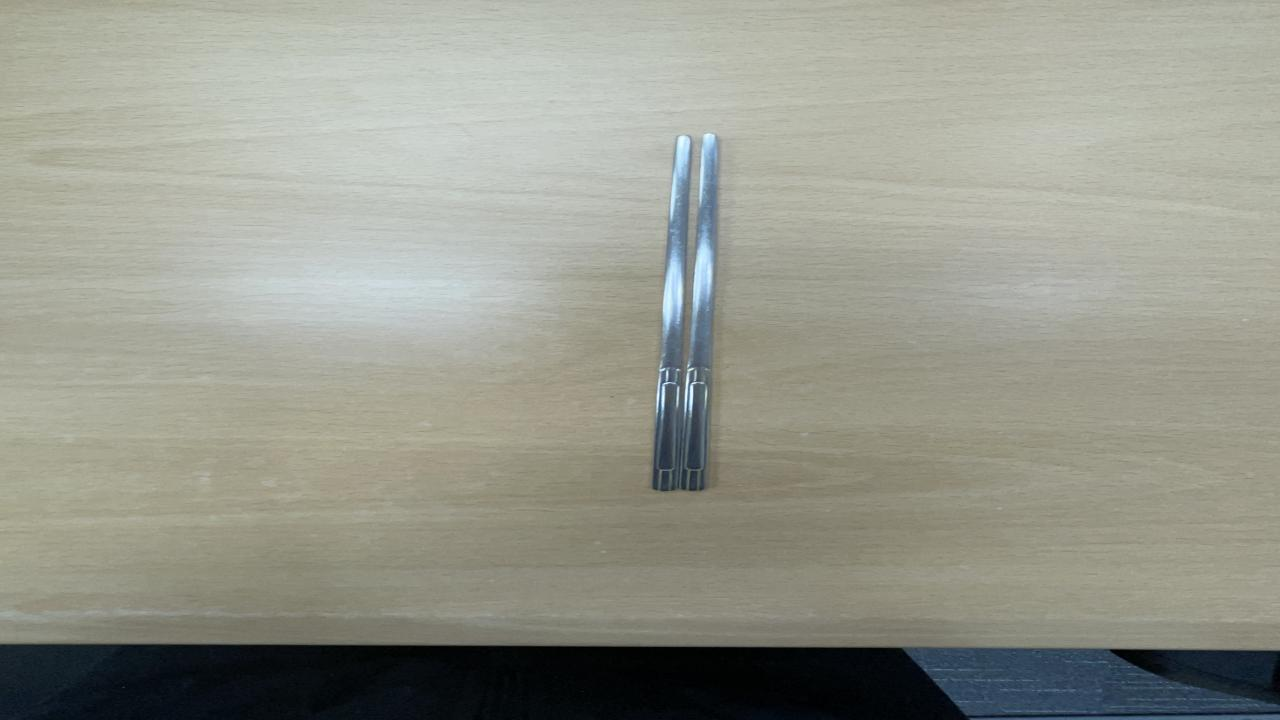chopstick: (641, 130, 730, 493)
